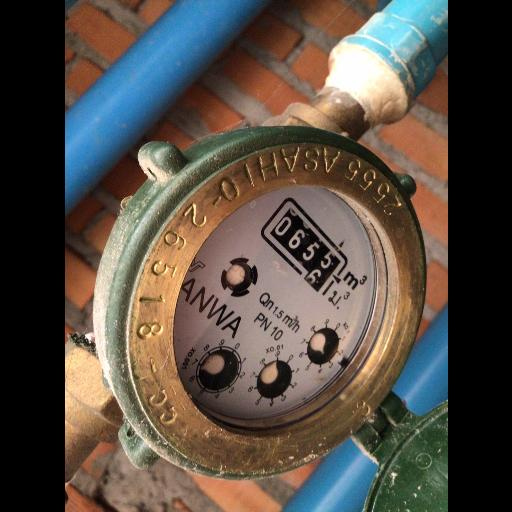0: (266, 207, 304, 245)
5: (301, 249, 343, 292), (294, 236, 331, 273)
6: (294, 221, 317, 257)
border_water_meter_number: (254, 195, 357, 297)
